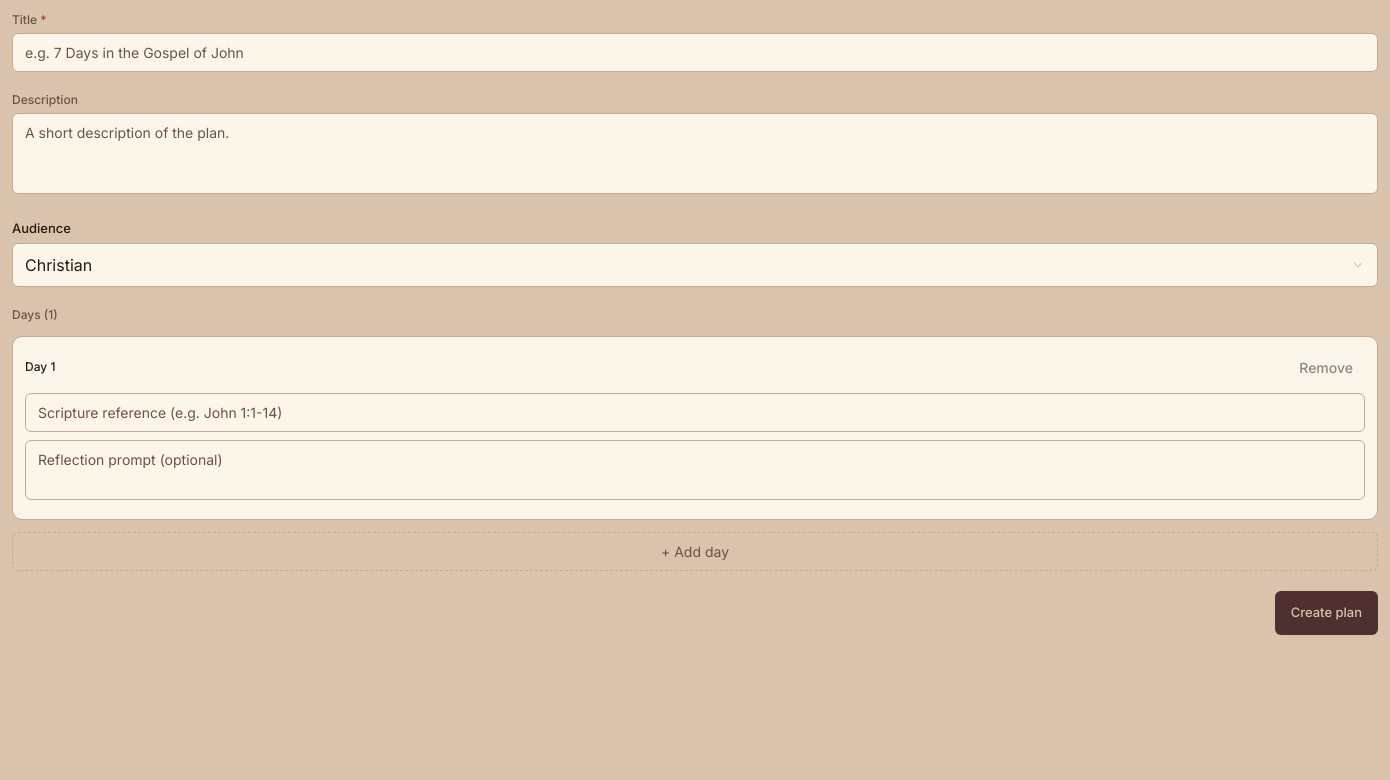
it: ReadingPlanForm – day editor › adds a day when '+ Add day' is clicked
Expected: the text "Day 1" is shown once, x1=25 y1=359 x2=55 y2=376
Step 1. Click the button "+ Add day" → [695, 551], box x1=12 y1=532 x2=1378 y2=571
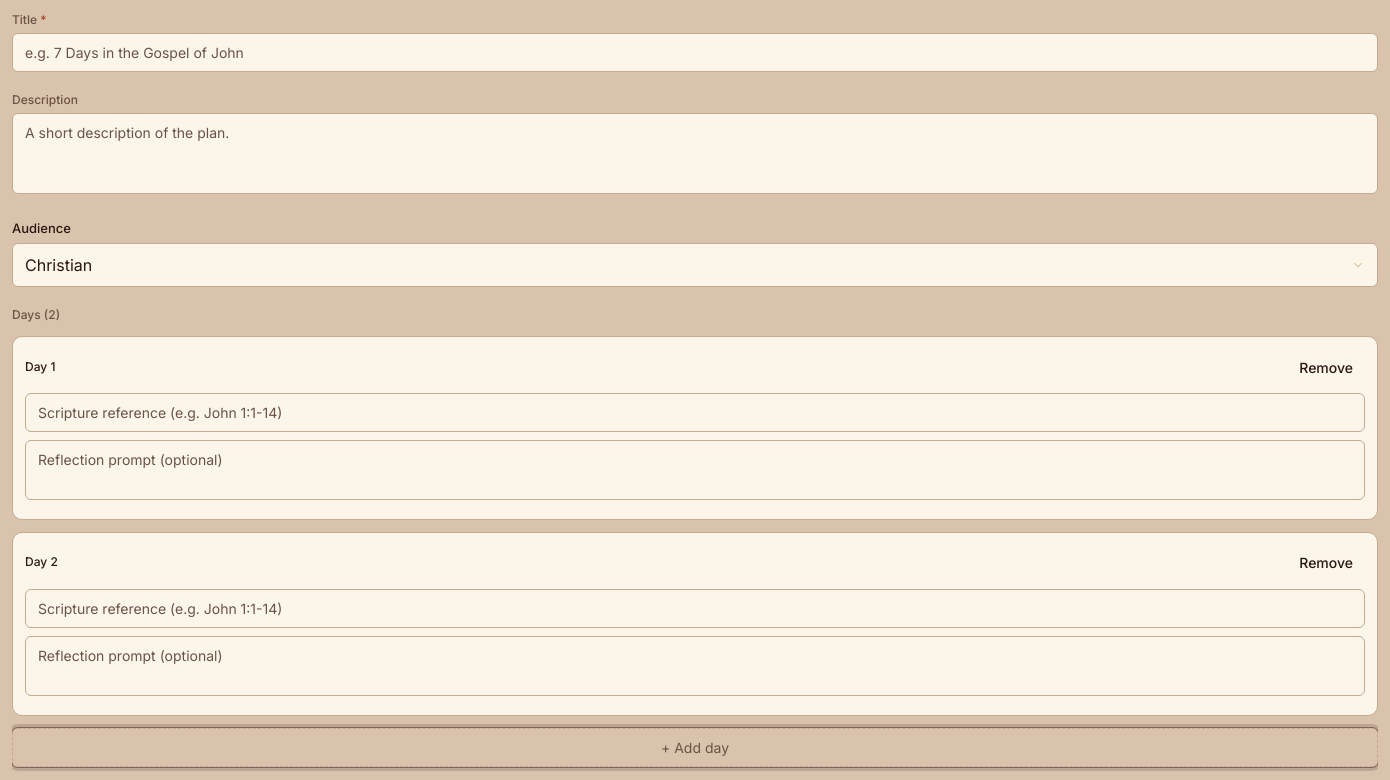
Now the text "Day 1" is shown 2 times, box x1=25 y1=359 x2=55 y2=376; x1=25 y1=554 x2=58 y2=571
Now the text "Day 2" is shown, box x1=25 y1=554 x2=58 y2=571
